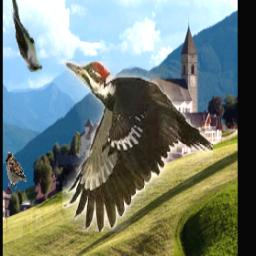Cuckoo: (7, 0, 42, 73)
Sparrow: (5, 152, 27, 190)
Woodpecker: (62, 61, 213, 232)
